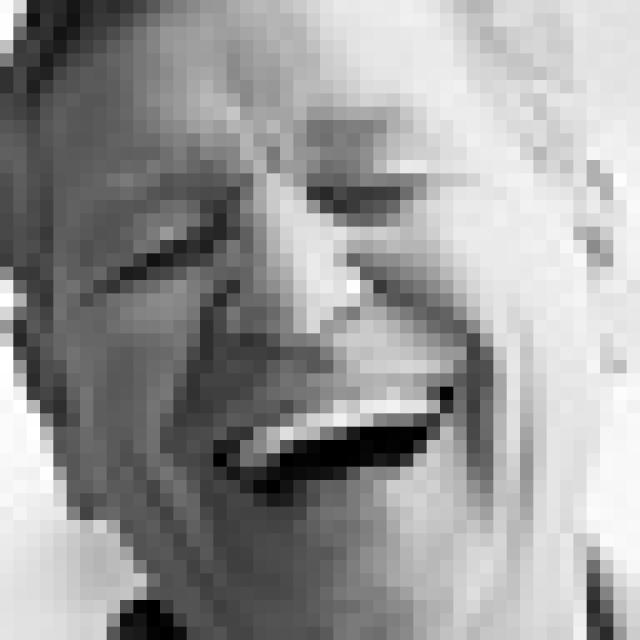happy: (72, 104, 482, 553)
